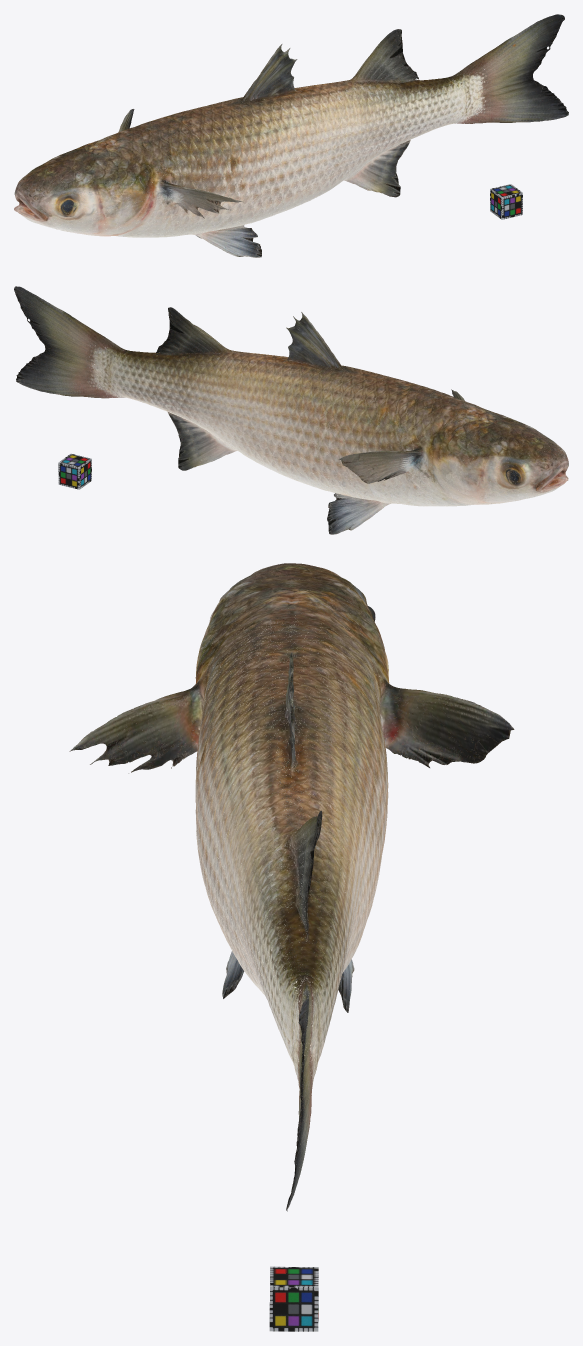
The model's file is bora-52e1e10dbd4b.glb.
The picture shows the model from 3 angles, top to bottom: view 1: azimuth 30°, elevation 25°; view 2: azimuth 150°, elevation 25°; view 3: azimuth 270°, elevation 25°; orthographic projection. The views are drawn at different scales.
Parts seen in each view (by area): view 1: Q11216-1all_5, Cube_2; view 2: Q11216-1all_5, Cube_2; view 3: Q11216-1all_5, Cube_2.
Boxes of the visible parts, bbox=[...] form: Q11216-1all_5: bbox=[14, 14, 568, 257]; Cube_2: bbox=[490, 184, 522, 219]; Q11216-1all_5: bbox=[14, 286, 568, 534]; Cube_2: bbox=[58, 453, 91, 489]; Q11216-1all_5: bbox=[69, 563, 514, 1211]; Cube_2: bbox=[269, 1266, 318, 1331].
Bounding box in the file's own units: 12.31 × 4.8 × 4.31.
3 materials, 3 textured.
